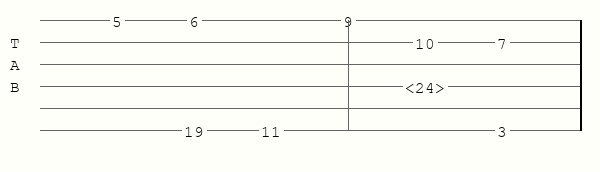10: (415, 35, 439, 49)
11: (261, 123, 285, 137)
19: (184, 123, 208, 137)
3: (497, 123, 511, 137)
5: (112, 13, 126, 27)
6: (189, 13, 203, 27)
7: (497, 35, 511, 49)
9: (343, 13, 357, 27)
harmonic: (405, 79, 449, 94)
